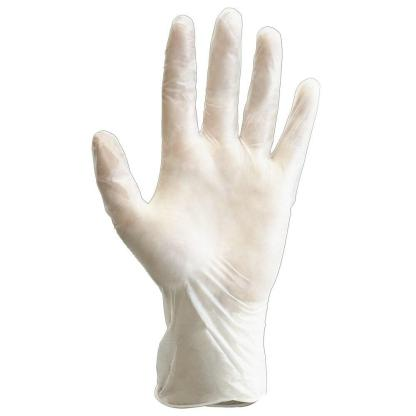with_gloves: (88, 3, 325, 410)
